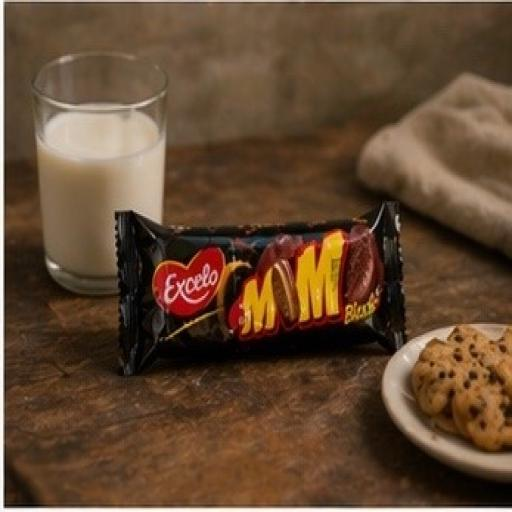MOMO: (84, 138, 444, 426)
